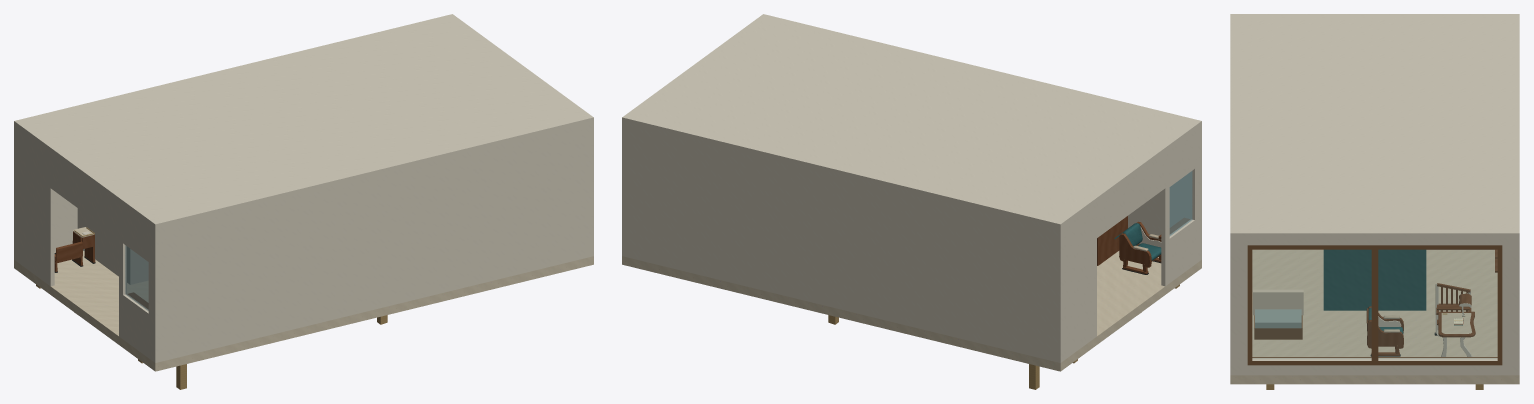
File: NG410_PanoramicSuite_r001.glb
3 renders of one model, left to right at view 1: azimuth 30°, elevation 25°; view 2: azimuth 150°, elevation 25°; view 3: azimuth 270°, elevation 25°, orthographic. The views are drawn at different scales.
Visible parts, largest first — view 1: NG410_RuntimeBatch_001, NG410_RoomFloor, NG410_ScreenedStreetGlass, NG410_RuntimeBatch_013; view 2: NG410_RuntimeBatch_001, NG410_RoomFloor, NG410_ScreenedStreetGlass, NG410_RuntimeBatch_049, NG410_RuntimeBatch_002; view 3: NG410_RuntimeBatch_001, NGP_410_PrivateViewPane, NG410_RoomFloor, NG410_RuntimeBatch_006, NGP_410_Frame_Sill, NGP_410_Frame_Head, NGP_410_ViewSeat_Back, NGP_410_ViewSeat_Cushion, NGP_410_RetainedFrameAlignment, NG410_RuntimeBatch_007, NG410_RuntimeBatch_028, NGP_410_Frame_Left (+4 smaller).
Boxes of the visible parts, x1=… form: NG410_RuntimeBatch_001: x1=14, y1=14, x2=593, y2=362; NG410_RoomFloor: x1=14, y1=250, x2=593, y2=371; NG410_ScreenedStreetGlass: x1=125, y1=245, x2=148, y2=310; NG410_RuntimeBatch_013: x1=54, y1=231, x2=95, y2=271; NG410_RuntimeBatch_001: x1=622, y1=14, x2=1201, y2=362; NG410_RoomFloor: x1=622, y1=251, x2=1201, y2=371; NG410_ScreenedStreetGlass: x1=1169, y1=171, x2=1192, y2=235; NG410_RuntimeBatch_049: x1=1119, y1=221, x2=1161, y2=274; NG410_RuntimeBatch_002: x1=1097, y1=216, x2=1190, y2=265; NG410_RuntimeBatch_001: x1=1230, y1=14, x2=1519, y2=375; NGP_410_PrivateViewPane: x1=1252, y1=250, x2=1497, y2=358; NG410_RoomFloor: x1=1230, y1=249, x2=1519, y2=384; NG410_RuntimeBatch_006: x1=1323, y1=249, x2=1426, y2=310; NGP_410_Frame_Sill: x1=1247, y1=357, x2=1502, y2=365; NGP_410_Frame_Head: x1=1247, y1=245, x2=1502, y2=249; NGP_410_ViewSeat_Back: x1=1253, y1=289, x2=1303, y2=315; NGP_410_ViewSeat_Cushion: x1=1255, y1=309, x2=1301, y2=328; NGP_410_RetainedFrameAlignment: x1=1371, y1=249, x2=1378, y2=360; NG410_RuntimeBatch_007: x1=1436, y1=283, x2=1475, y2=337; NG410_RuntimeBatch_028: x1=1366, y1=306, x2=1403, y2=355; NGP_410_Frame_Left: x1=1497, y1=249, x2=1502, y2=360.
Bounding box in the file's own units: 12.9 × 5.31 × 7.2.
68 materials, 49 textured.
